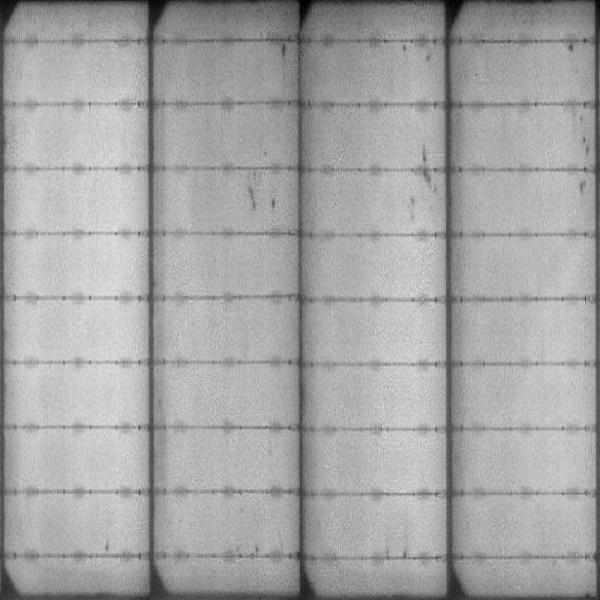scratch: (577, 108, 593, 199), (247, 185, 282, 211), (419, 139, 434, 197)
